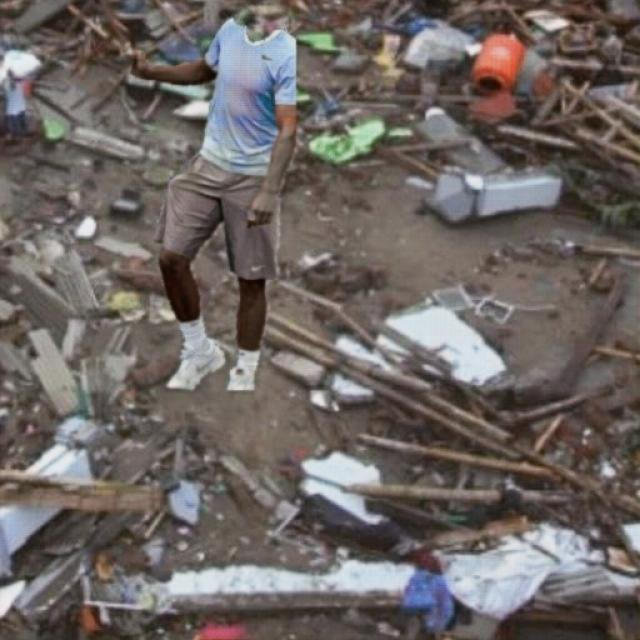Person in Rubble: (120, 18, 295, 388)
